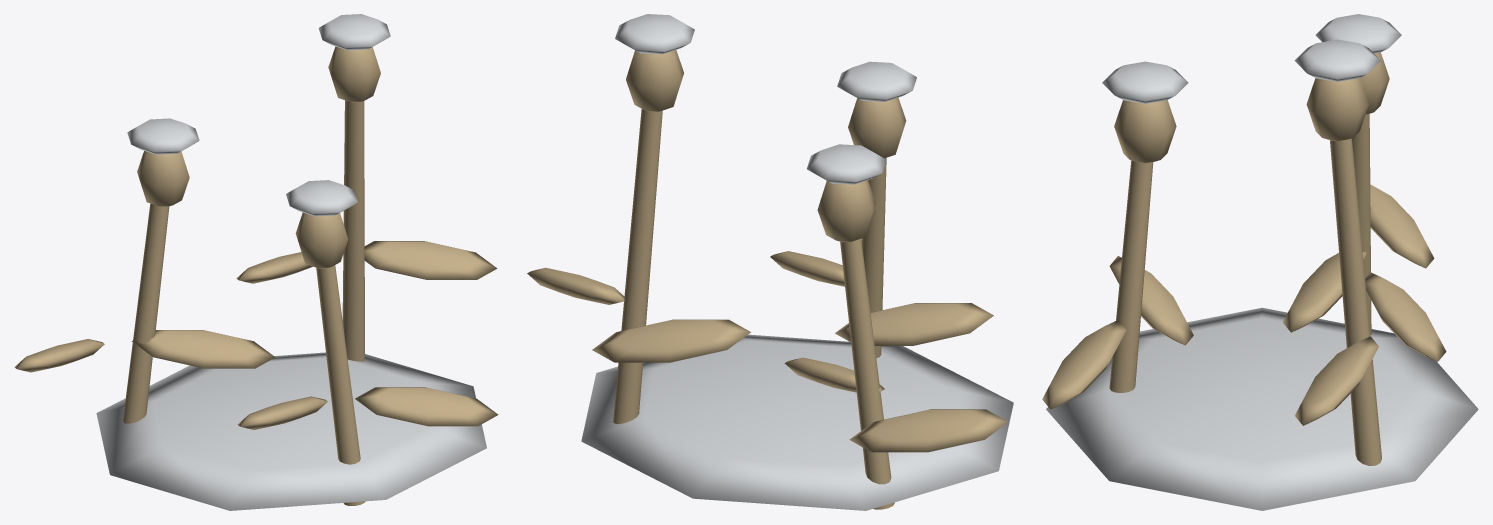
Rendered from flower_1_winter.glb.
The picture shows the model from 3 angles, left to right: view 1: azimuth 30°, elevation 25°; view 2: azimuth 150°, elevation 25°; view 3: azimuth 270°, elevation 25°; orthographic projection. The views are drawn at different scales.
Bounding box in the file's own units: 0.5021 × 0.4072 × 0.3631.
